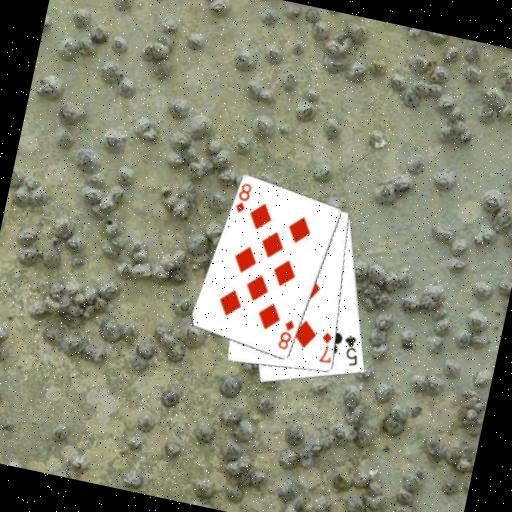5C: (336, 331, 364, 369)
7D: (313, 328, 336, 366)
8D: (274, 314, 297, 352), (232, 178, 255, 216)
